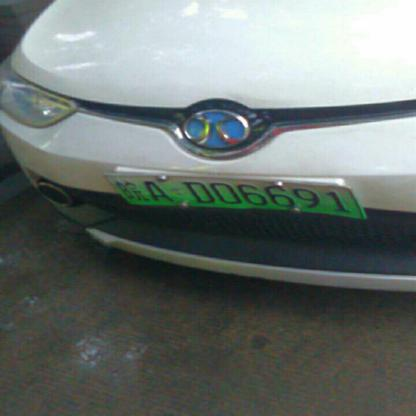lp: (106, 176, 363, 217)
